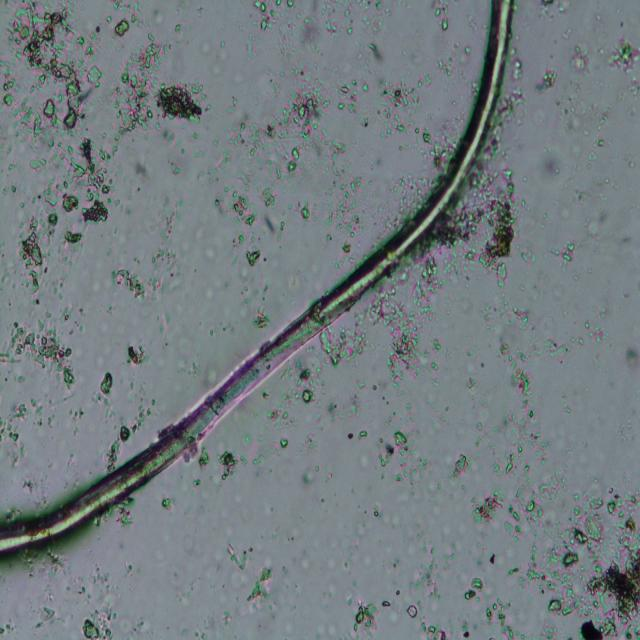Background material: (547, 482, 640, 637), (9, 2, 88, 132), (232, 72, 330, 155), (358, 290, 444, 382), (503, 439, 563, 545), (0, 320, 77, 390), (116, 36, 166, 142), (324, 134, 363, 255), (483, 169, 520, 288), (149, 296, 201, 379), (0, 74, 62, 143), (498, 344, 542, 441), (146, 191, 186, 294), (428, 204, 484, 274), (105, 404, 159, 472), (372, 74, 428, 139), (186, 133, 246, 190), (309, 523, 376, 571), (65, 138, 113, 200), (569, 97, 611, 165), (376, 430, 429, 482), (344, 482, 392, 536), (486, 90, 522, 160), (153, 82, 209, 124), (508, 545, 552, 596), (64, 563, 122, 601), (0, 146, 34, 208), (290, 355, 328, 407), (481, 297, 529, 338), (299, 0, 336, 53), (413, 551, 447, 607), (253, 1, 299, 41), (442, 516, 480, 564), (413, 253, 445, 307), (320, 332, 367, 368), (74, 602, 118, 639), (20, 230, 44, 295), (110, 262, 146, 302), (187, 216, 217, 263), (0, 398, 31, 441), (485, 596, 516, 639), (470, 486, 504, 525), (606, 38, 640, 76), (199, 34, 229, 76), (336, 77, 369, 115), (242, 565, 274, 604), (264, 387, 294, 427), (230, 187, 258, 229), (426, 472, 450, 520), (351, 596, 379, 636), (44, 245, 70, 288), (426, 138, 452, 180), (274, 145, 302, 184), (48, 182, 80, 215), (538, 150, 566, 187), (326, 396, 360, 426), (568, 42, 596, 77), (578, 318, 610, 348), (117, 0, 147, 32), (534, 0, 572, 25), (44, 298, 90, 318), (260, 212, 286, 245), (79, 199, 111, 225), (217, 450, 241, 483), (170, 10, 192, 46), (550, 242, 576, 272), (117, 615, 155, 635), (125, 338, 149, 369), (447, 451, 470, 483), (544, 341, 572, 367), (226, 545, 250, 574), (34, 604, 60, 630), (419, 617, 449, 639), (114, 501, 137, 528), (534, 68, 557, 95), (362, 40, 385, 66), (338, 1, 354, 37), (433, 3, 451, 35), (291, 552, 315, 576), (147, 2, 169, 28), (94, 372, 115, 399), (131, 156, 149, 186), (85, 63, 105, 90), (508, 56, 526, 86), (209, 188, 228, 215), (294, 204, 319, 224), (249, 309, 271, 331), (194, 446, 212, 472), (465, 577, 483, 602), (464, 376, 482, 401), (302, 465, 322, 487), (244, 246, 263, 269), (258, 185, 277, 208), (319, 585, 341, 603), (586, 221, 604, 241), (30, 155, 48, 175), (626, 347, 640, 371), (114, 18, 130, 39), (161, 493, 177, 511), (405, 601, 420, 620), (46, 211, 60, 230), (64, 228, 82, 242), (460, 618, 472, 639), (278, 433, 290, 451), (561, 208, 572, 222), (358, 428, 369, 442), (192, 476, 202, 490), (380, 599, 392, 610), (346, 428, 354, 443)
Microfibre: (0, 1, 514, 554)
